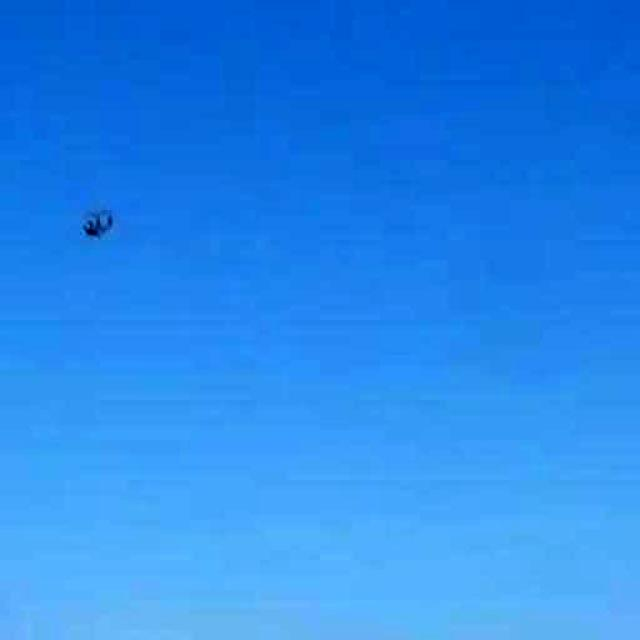drone: (51, 184, 131, 260)
